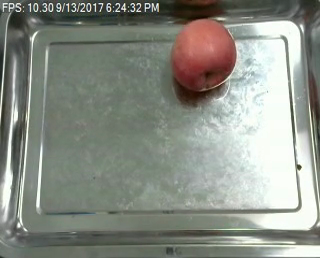Apple: (166, 19, 241, 93)
